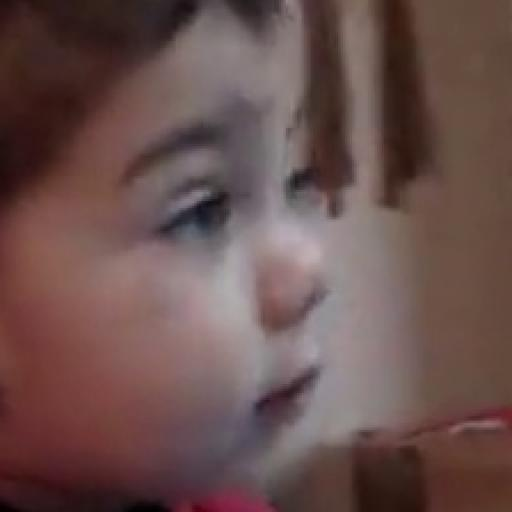Autism: (61, 38, 508, 512)
